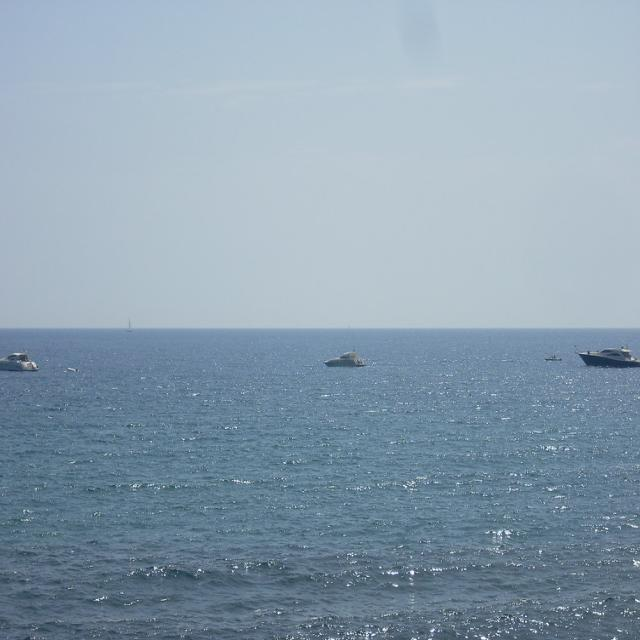houseboat: (577, 337, 640, 369), (0, 344, 40, 375), (321, 347, 368, 369)
